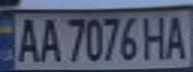0: (84, 15, 106, 62)
6: (118, 14, 142, 61)
7: (63, 15, 84, 62), (103, 15, 121, 62)
A: (160, 12, 193, 61), (12, 14, 42, 63), (36, 15, 63, 63)
H: (139, 12, 172, 61)
